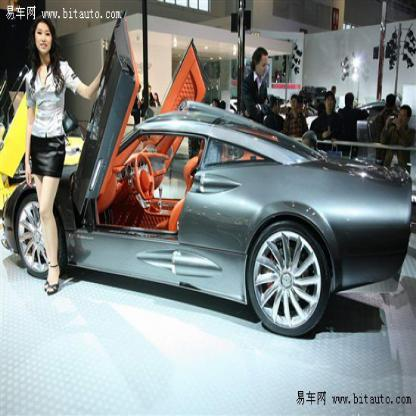car: (1, 7, 413, 339)
